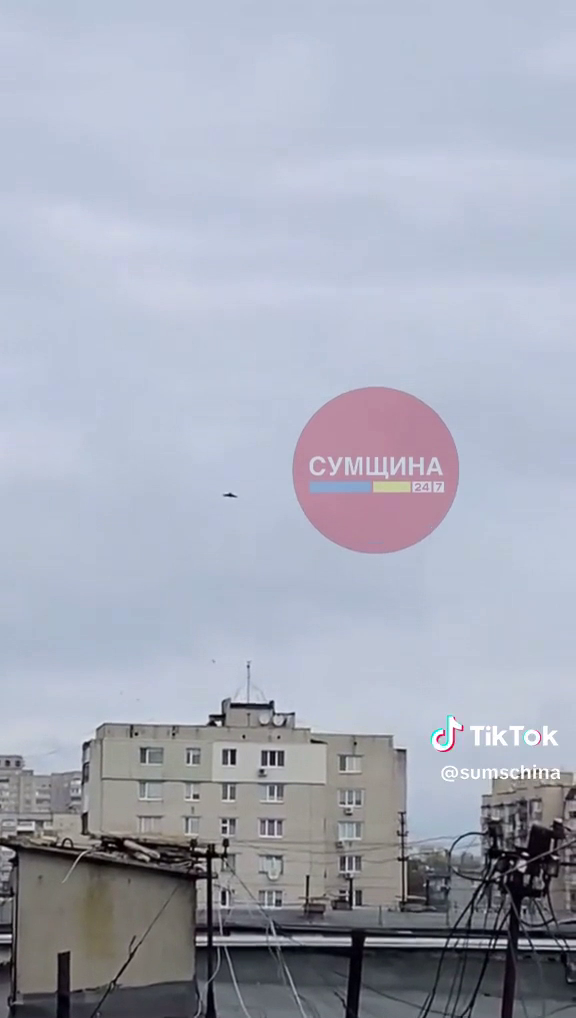shahed: (221, 490, 237, 499)
